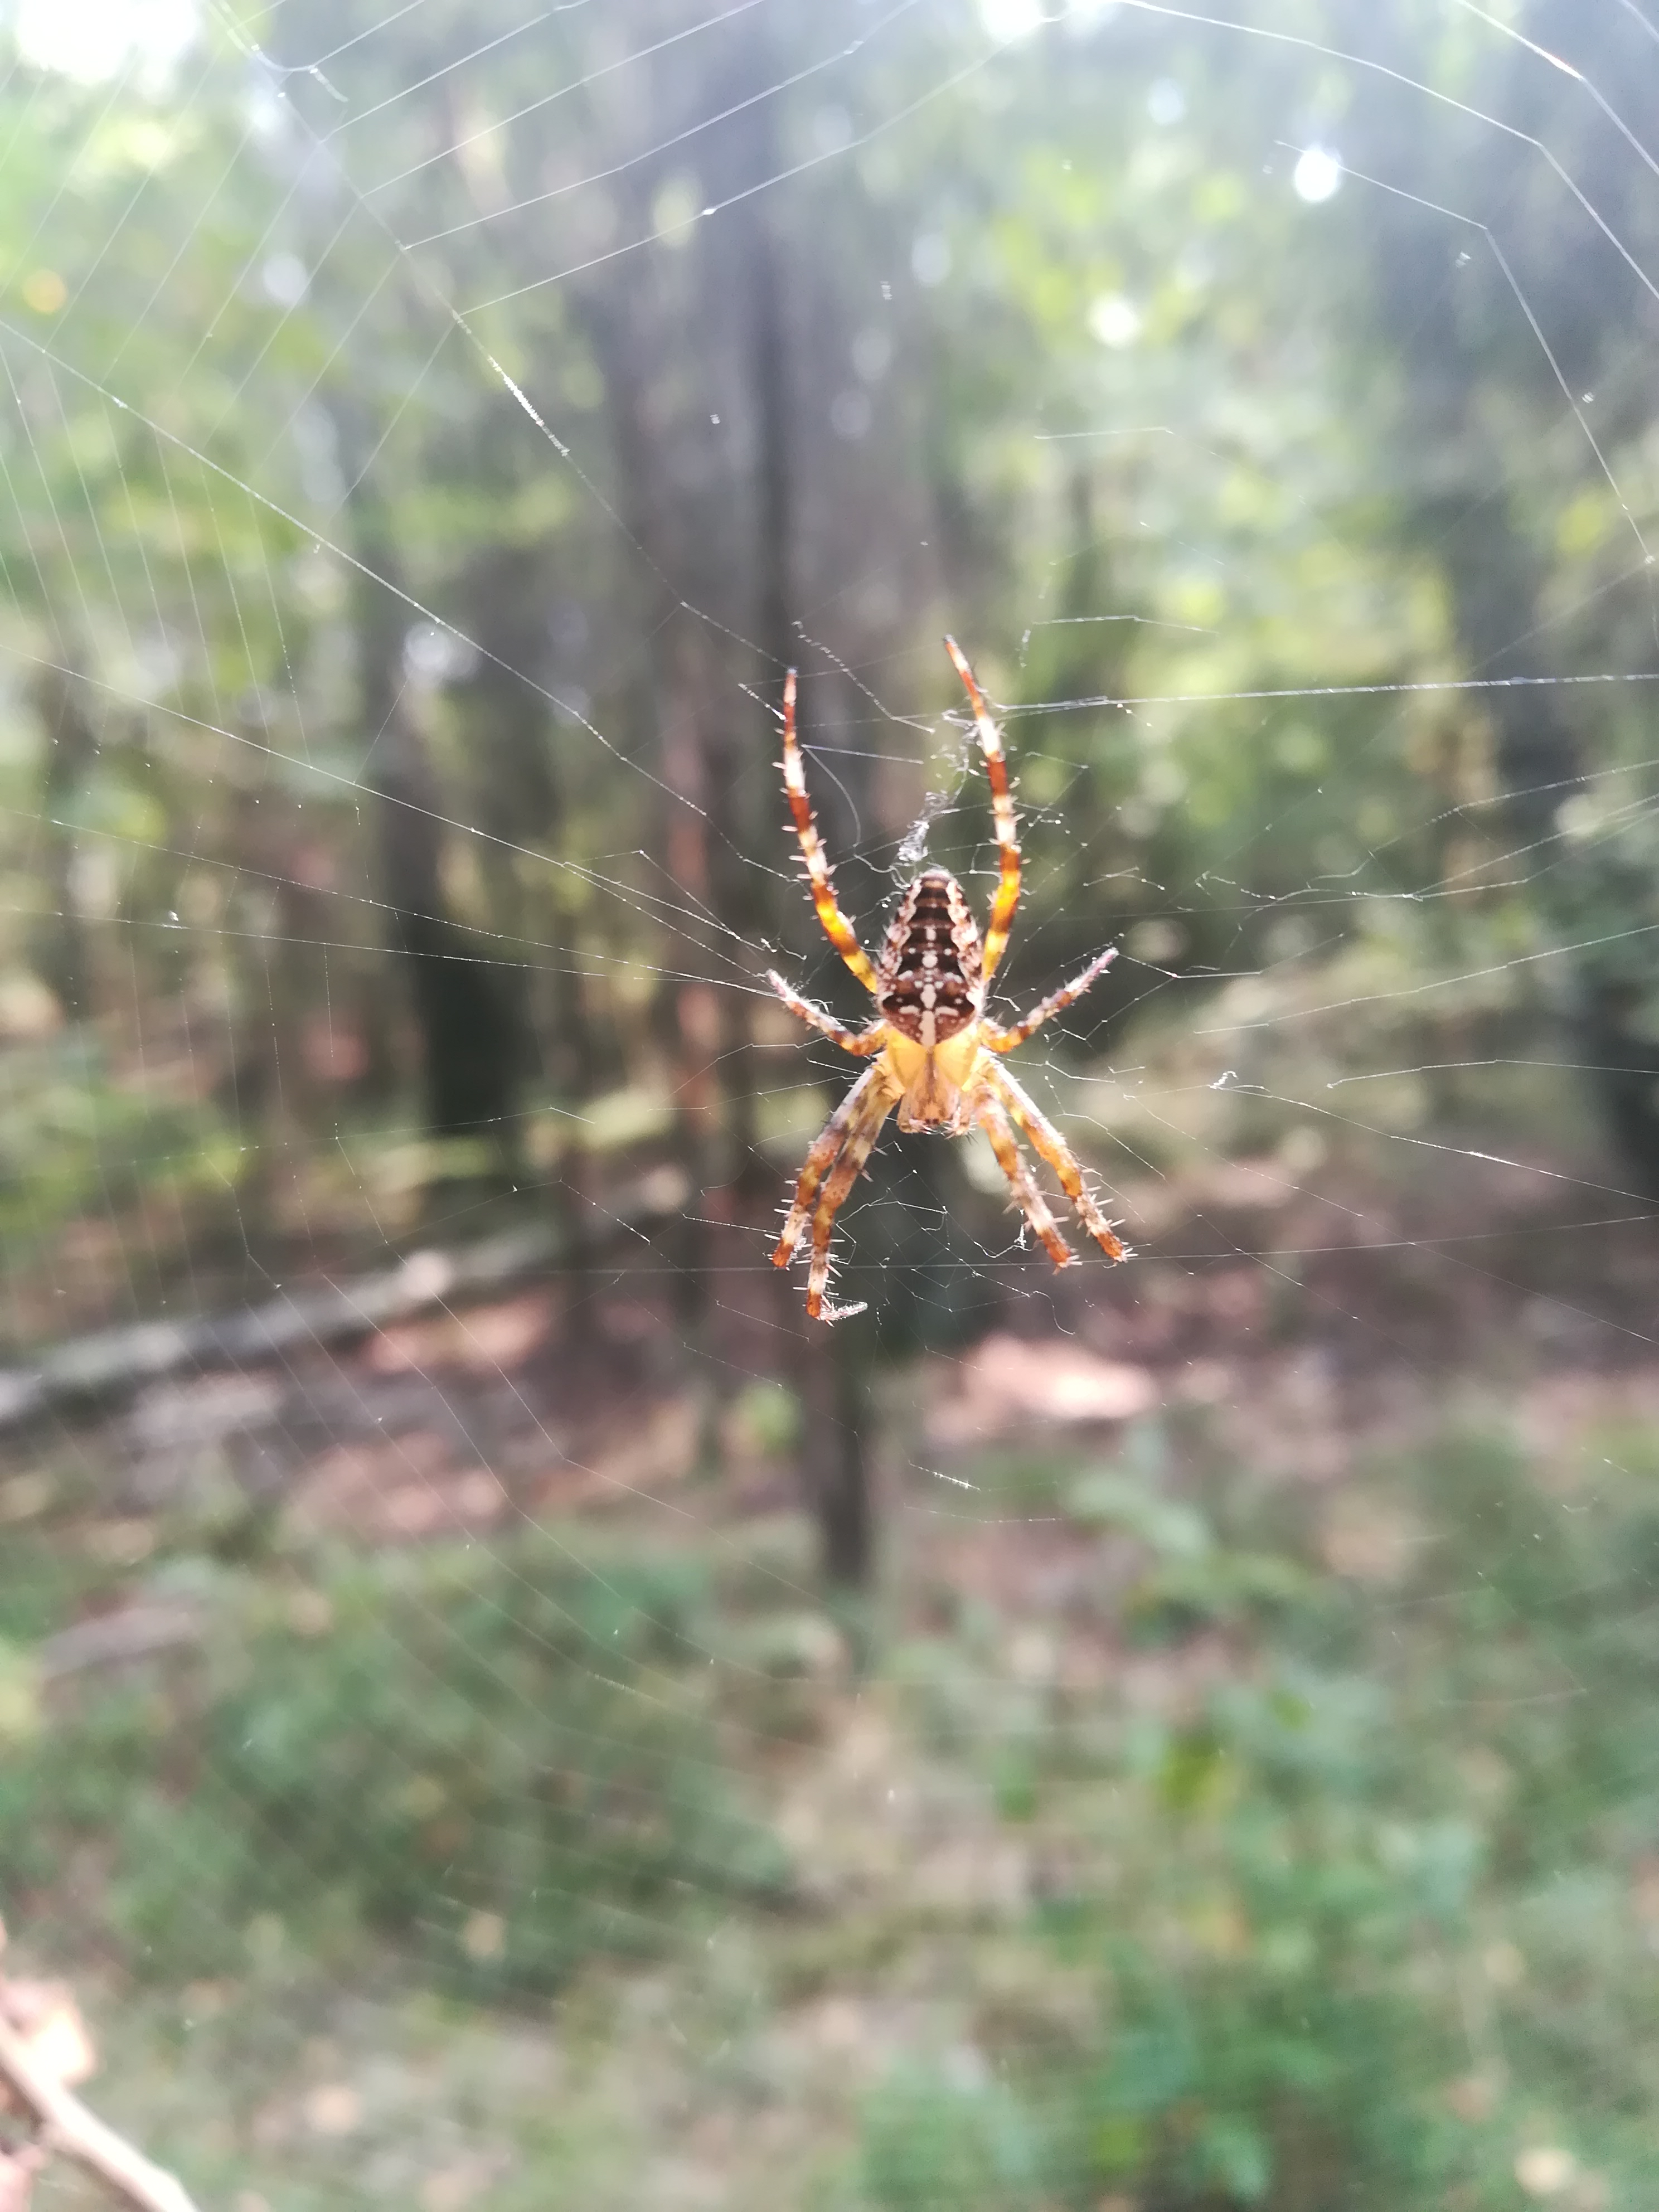spider: (643, 608, 1256, 1348)
